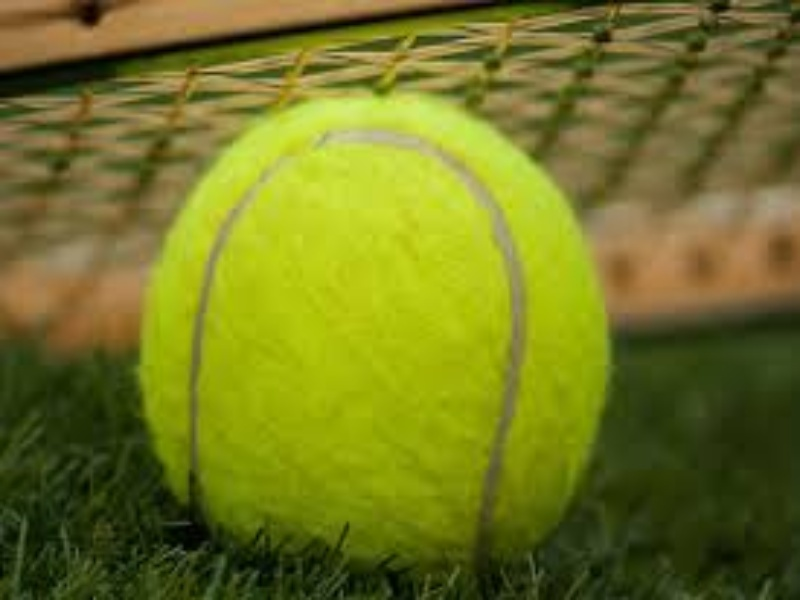tennis ball: (149, 90, 638, 592)
